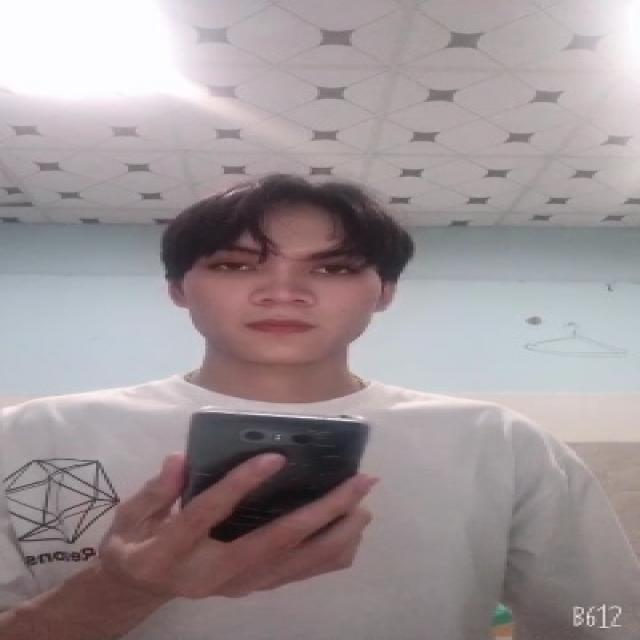Phone: (179, 408, 371, 538)
